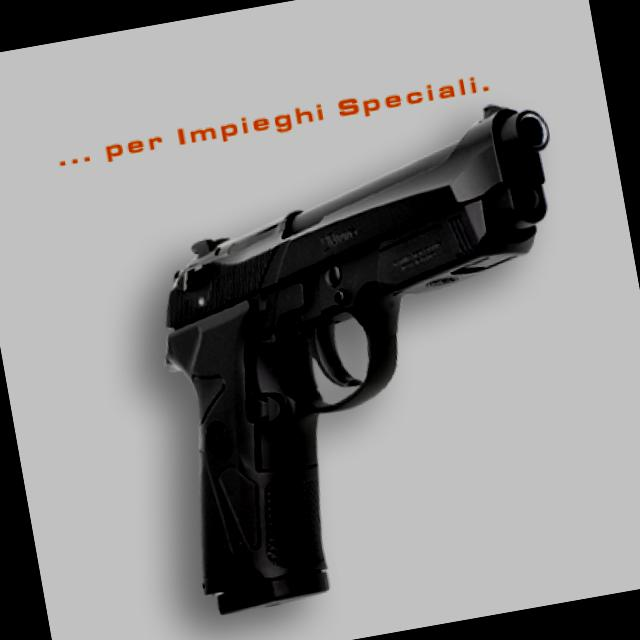handgun: (124, 93, 623, 618)
